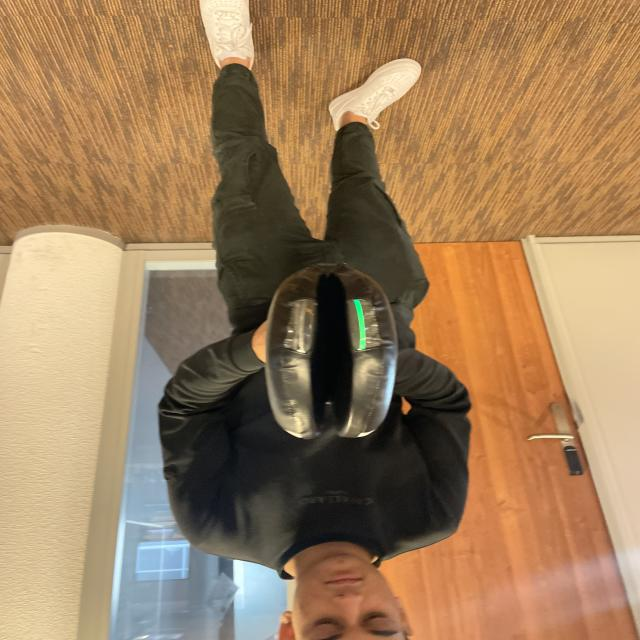paddle: (268, 263, 394, 442)
trigger: (349, 300, 373, 354)
